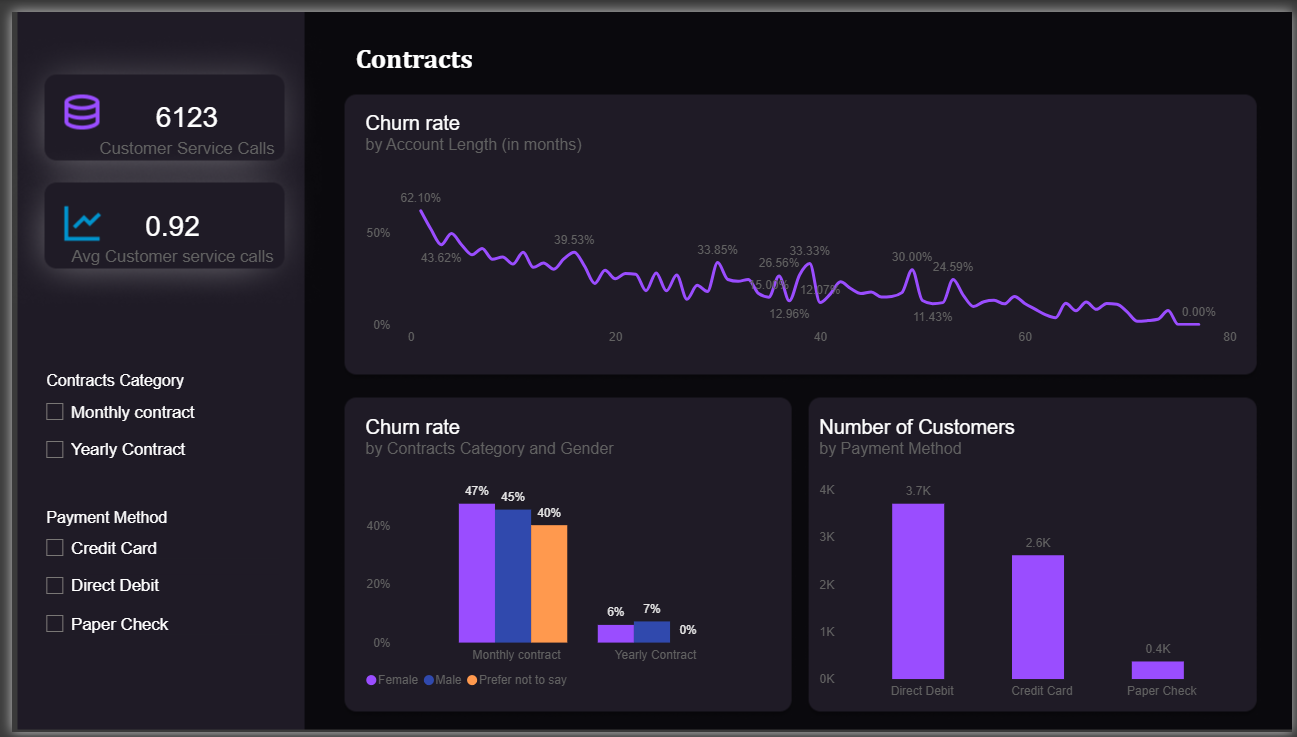

The page's visual inventory and layout, read from the dashboard file:
{"tool":"powerbi","page":{"name":"Contracts","canvas":[1280,720],"ordinal":1},"visuals":[{"type":"clusteredColumnChart","fields":{"Category":["Databel - Data.Contracrts"],"Series":["Databel - Data.Gender"],"Y":["Databel - Data.Churn rate"]},"box":[337.8,388.5,437.9,308.8],"z":0},{"type":"lineChart","fields":{"Category":["Databel - Data.Account Length (in months)"],"Y":["Databel - Data.Churn rate"]},"box":[337.8,84.5,906,266.6],"z":1000},{"type":"columnChart","fields":{"Category":["Databel - Data.Payment Method"],"Y":["Databel - Data.Number of Customers"]},"box":[791.4,388.5,452.4,317.3],"z":2000},{"type":"card","fields":{"Values":["Databel - Data.Avg Customer service calls"]},"box":[39.4,151.2,240.9,144.3],"z":3000},{"type":"card","fields":{"Values":["Sum(Databel - Data.Customer Service Calls)"]},"box":[68.2,52.4,212.4,125.5],"z":4000},{"type":"slicer","fields":{"Values":["Databel - Data.Contracrts"]},"box":[26.2,360,241.2,120],"z":5000},{"type":"slicer","fields":{"Values":["Databel - Data.Payment Method"]},"box":[26,496,240.9,163],"z":6000},{"type":"textbox","box":[344,30,295.6,44.6],"z":7000}]}

Visuals, with their boxes in screenshot pixels (x1, y1, x2, y2), scaled from the page's 1280x720 canvas onto the 1297x737 screenshot:
clusteredColumnChart - Databel - Data.Contracrts x Databel - Data.Gender: BBox(342, 398, 786, 714)
lineChart - Databel - Data.Account Length (in months) x Databel - Data.Churn rate: BBox(342, 86, 1260, 359)
columnChart - Databel - Data.Payment Method x Databel - Data.Number of Customers: BBox(802, 398, 1260, 722)
card - Databel - Data.Avg Customer service calls: BBox(40, 155, 284, 302)
card - Sum(Databel - Data.Customer Service Calls): BBox(69, 54, 284, 182)
slicer - Databel - Data.Contracrts: BBox(27, 368, 271, 491)
slicer - Databel - Data.Payment Method: BBox(26, 508, 270, 675)
textbox: BBox(349, 31, 648, 76)
